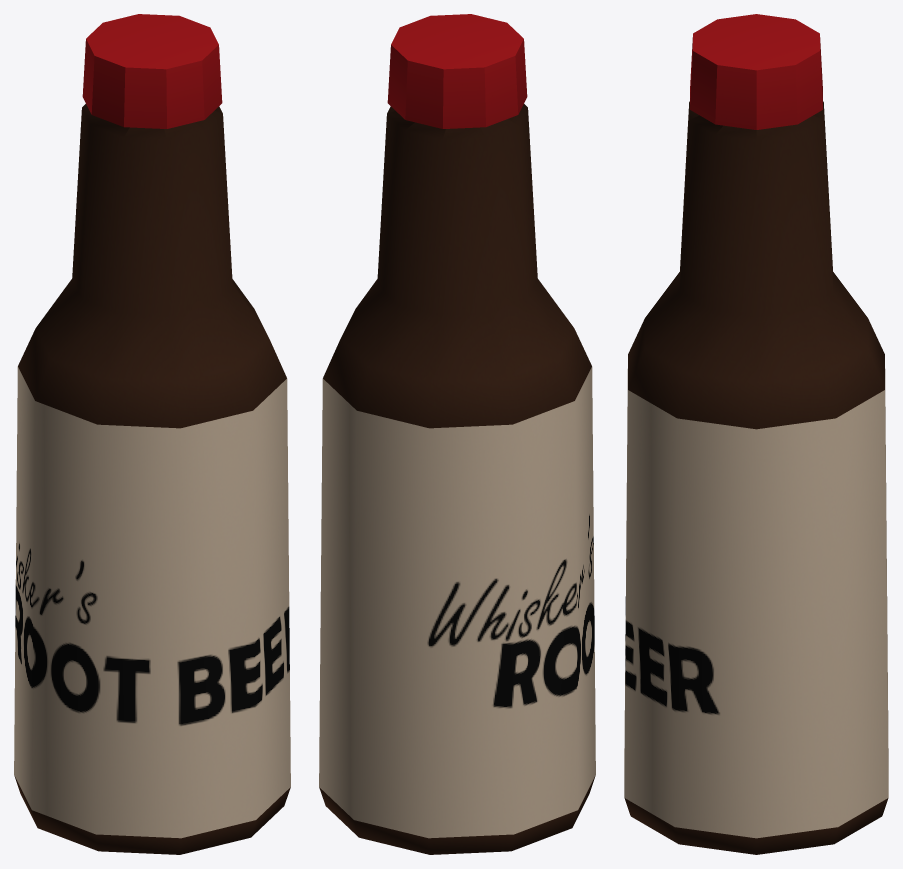
Rendered from bottle_rootbeer.fbx.
3 renders of one model, left to right at view 1: azimuth 30°, elevation 25°; view 2: azimuth 150°, elevation 25°; view 3: azimuth 270°, elevation 25°, orthographic.
Parts seen in each view (by area): view 1: pCylinder1; view 2: pCylinder1; view 3: pCylinder1.
Boxes of the visible parts, box(x1,y1,x2,y2) form: pCylinder1: box(14, 14, 290, 854); pCylinder1: box(319, 14, 595, 854); pCylinder1: box(624, 14, 888, 854).
Size of the model in its own units: 0.9604 by 2.92 by 0.9134.
